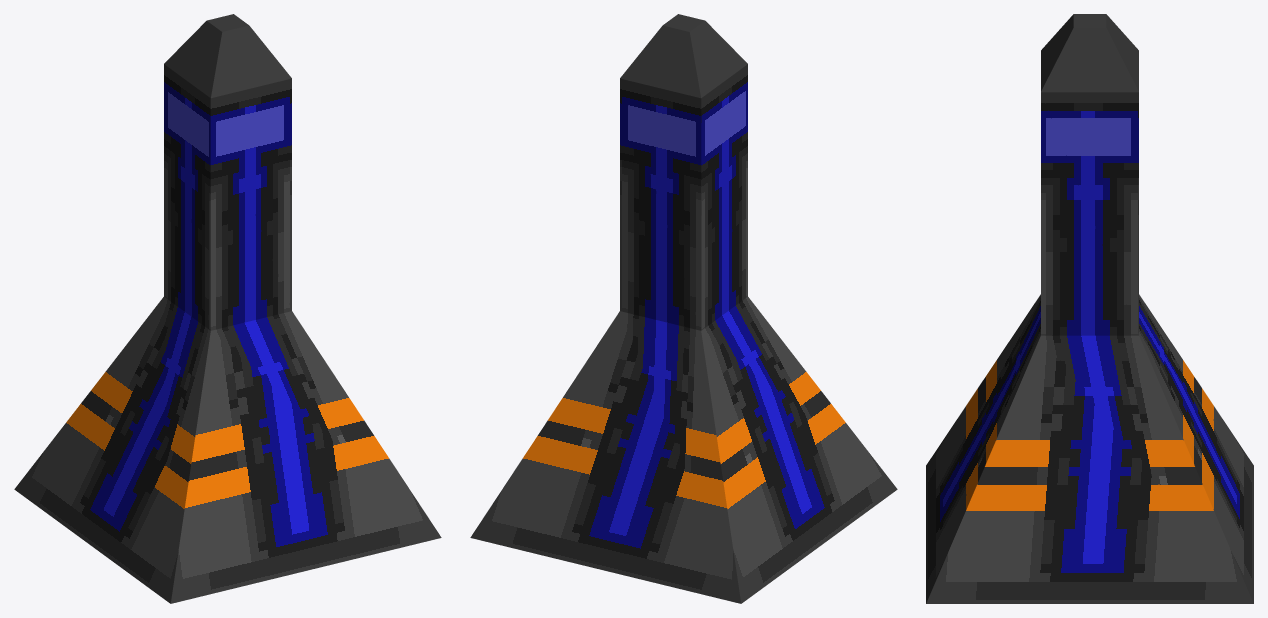
The picture shows the model from 3 angles, left to right: view 1: azimuth 30°, elevation 25°; view 2: azimuth 150°, elevation 25°; view 3: azimuth 270°, elevation 25°; orthographic projection. The views are drawn at different scales.
Visible parts, largest first — view 1: ss3d_50_energy_chrg; view 2: ss3d_50_energy_chrg; view 3: ss3d_50_energy_chrg.
Part boxes in pixels (x1,y1,x2,y2): ss3d_50_energy_chrg: (14,14,441,603); ss3d_50_energy_chrg: (470,14,897,603); ss3d_50_energy_chrg: (926,14,1253,603).
Size of the model in its own units: 0.7812 by 1.35 by 0.7812.
Materials: 1 (1 with a texture image).
